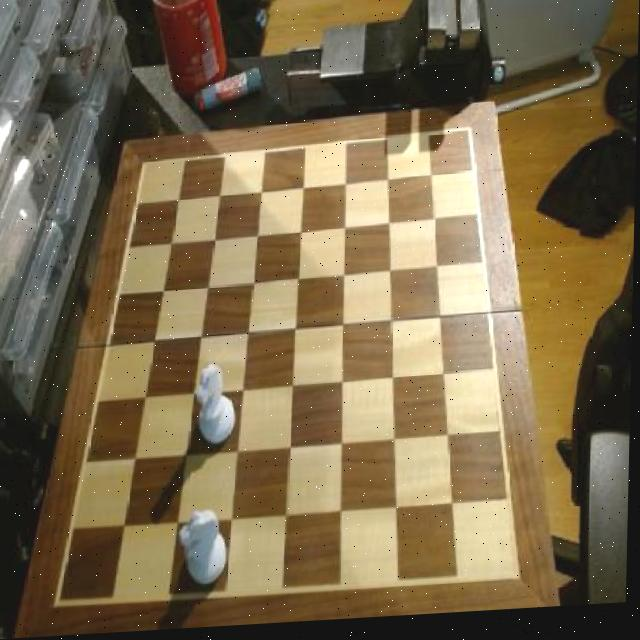white-king: (182, 509, 233, 593), (196, 364, 242, 451)
